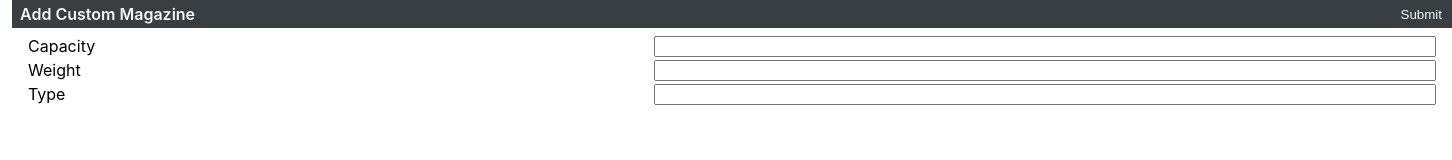
Test: The Firearm Modification Form › magazine form › should show error msg if the weight is not a number
This screenshot has width=1452, height=160.
In the field in the row of "Capacity": (1045, 46) [654,36,1436,57], type "18"
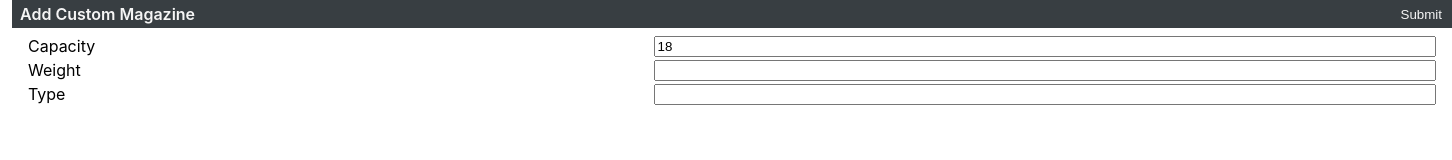
In the field in the row of "Weight": (1045, 71) [654,60,1436,81], type "x.65"
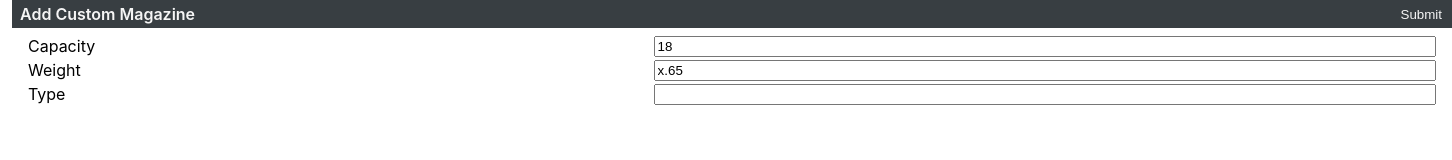
In the field in the row of "Type": (1045, 95) [654,84,1436,105], type "Mag"
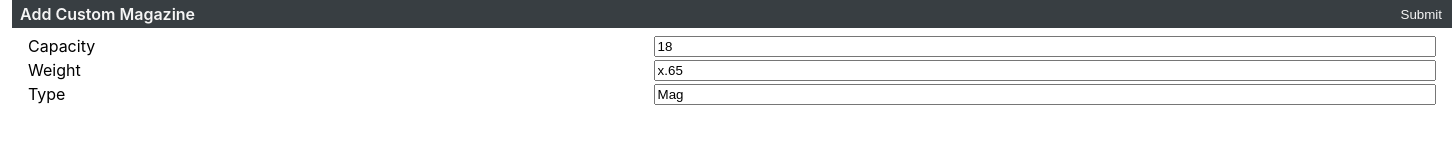
Click the button "Submit": (1421, 14) [1394,4,1448,24]
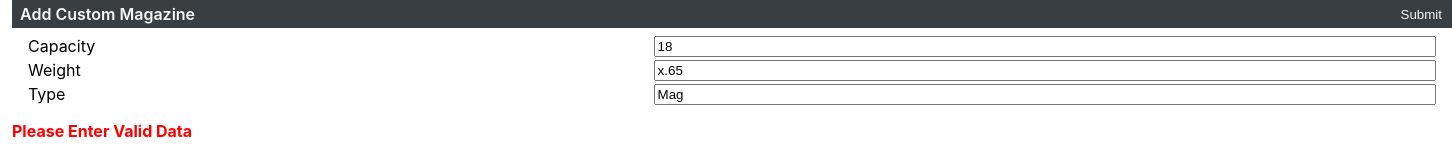
Expected: the text "Please Enter Valid Data" is shown, [12,121,192,141]
